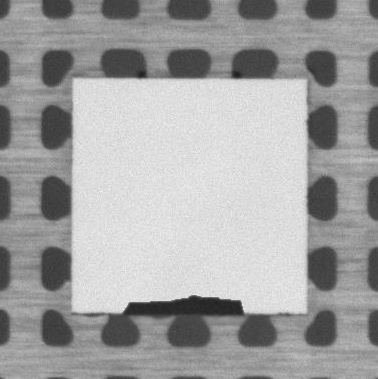DIE_BROKEN: (126, 294, 245, 315)
